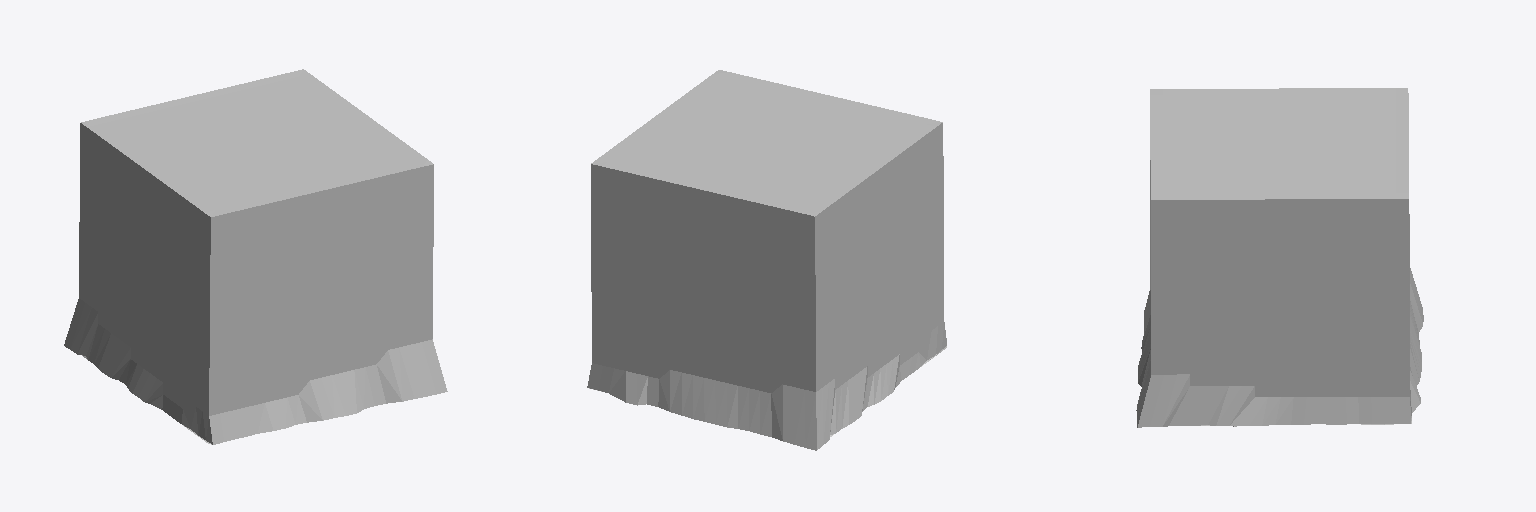
Rendered from mod0151.obj.
3 renders of one model, left to right at view 1: azimuth 30°, elevation 25°; view 2: azimuth 150°, elevation 25°; view 3: azimuth 270°, elevation 25°, orthographic.
Visible parts, largest first — view 1: Box001; view 2: Box001; view 3: Box001.
Part boxes in pixels (x1,y1,x2,y2): Box001: (64,69,447,444); Box001: (587,70,946,450); Box001: (1136,88,1423,427).
Bounding box in the file's own units: 0.5799 × 0.5225 × 0.5979.